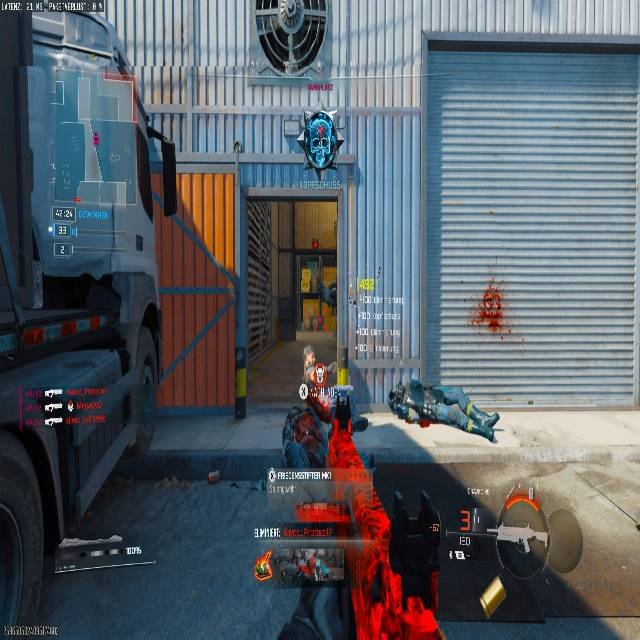head: (298, 352, 346, 415)
player: (297, 105, 345, 182)
